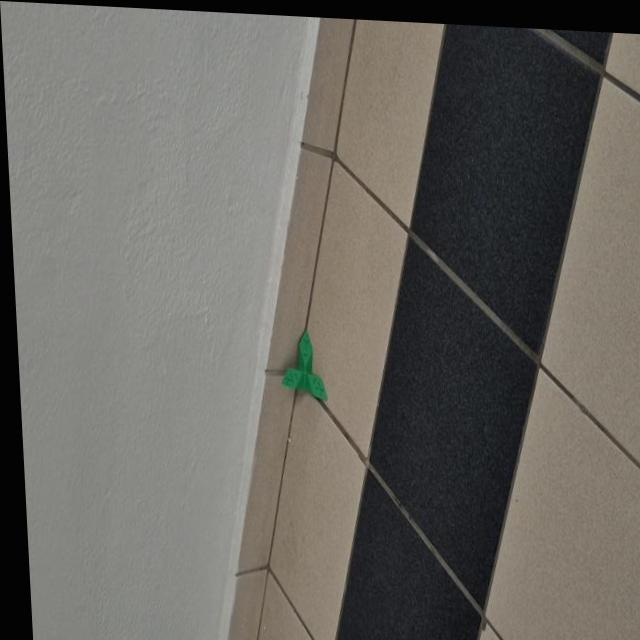eje: (278, 326, 329, 403)
